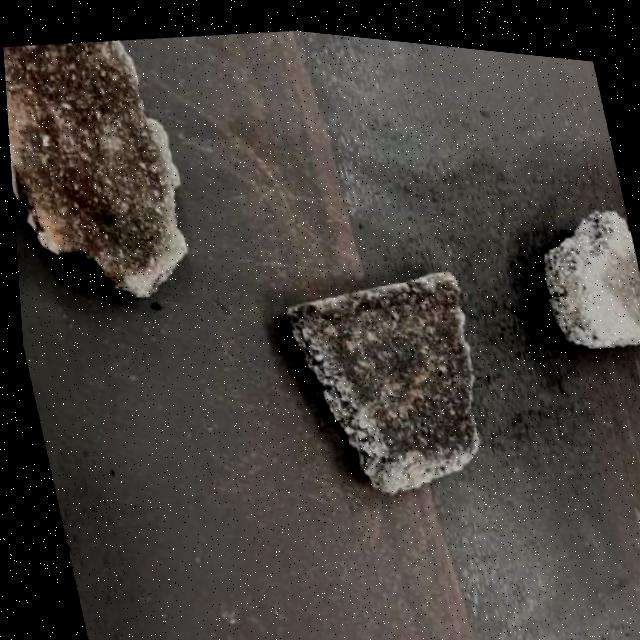Road Debris: (1, 23, 197, 299), (284, 248, 495, 481), (592, 232, 640, 335)
